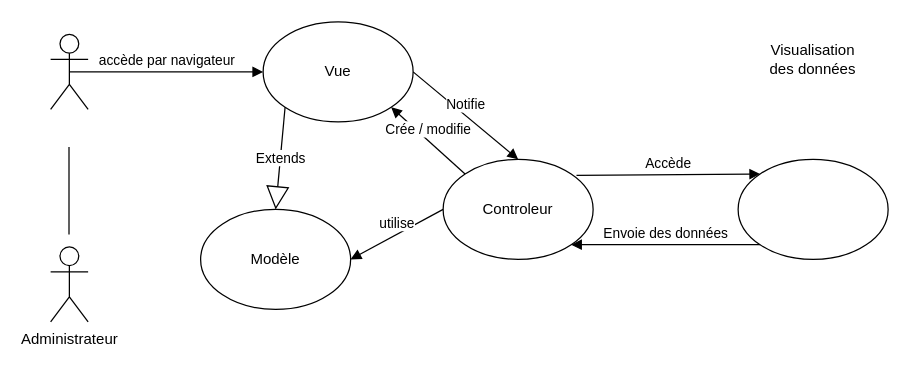
Some shapes in this 910 by 370 pixel diagram are drawn without their labels. The shapes that lost their labels are listed below. From the top down, each one's centre as x and y in pixels, then its label:
At pixel 68 71: "utilisateur".
At pixel 812 208: "Base de données".
